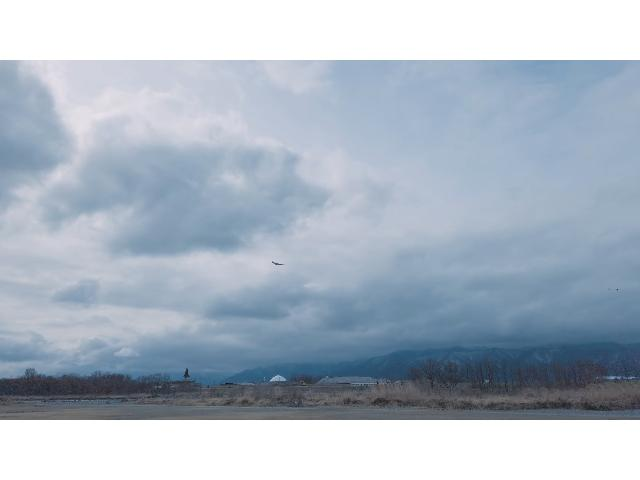Anti-Drone: (270, 258, 284, 268)
